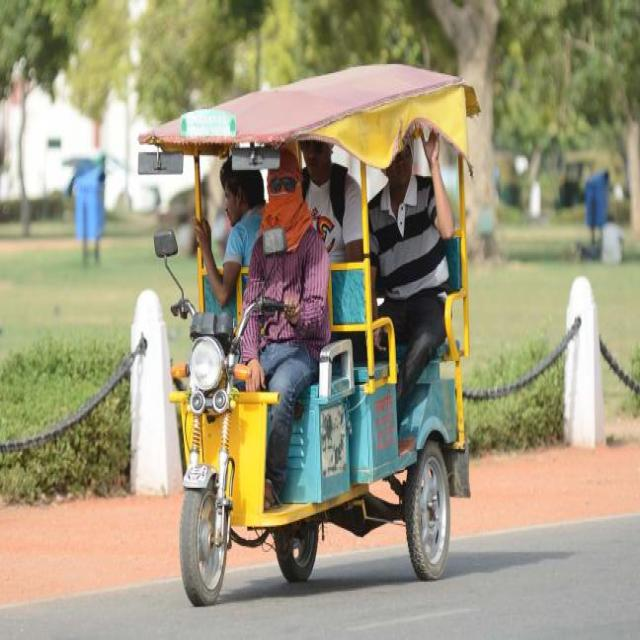autorickshaw: (141, 64, 478, 605)
